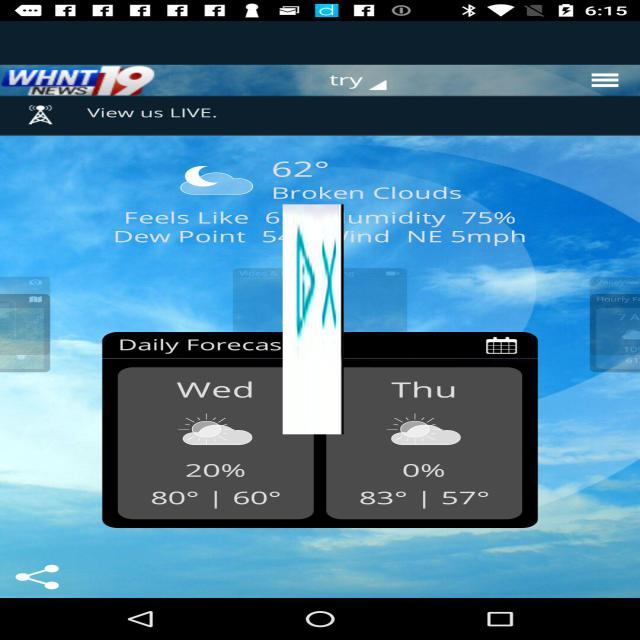sneaking: (282, 204, 344, 434)
